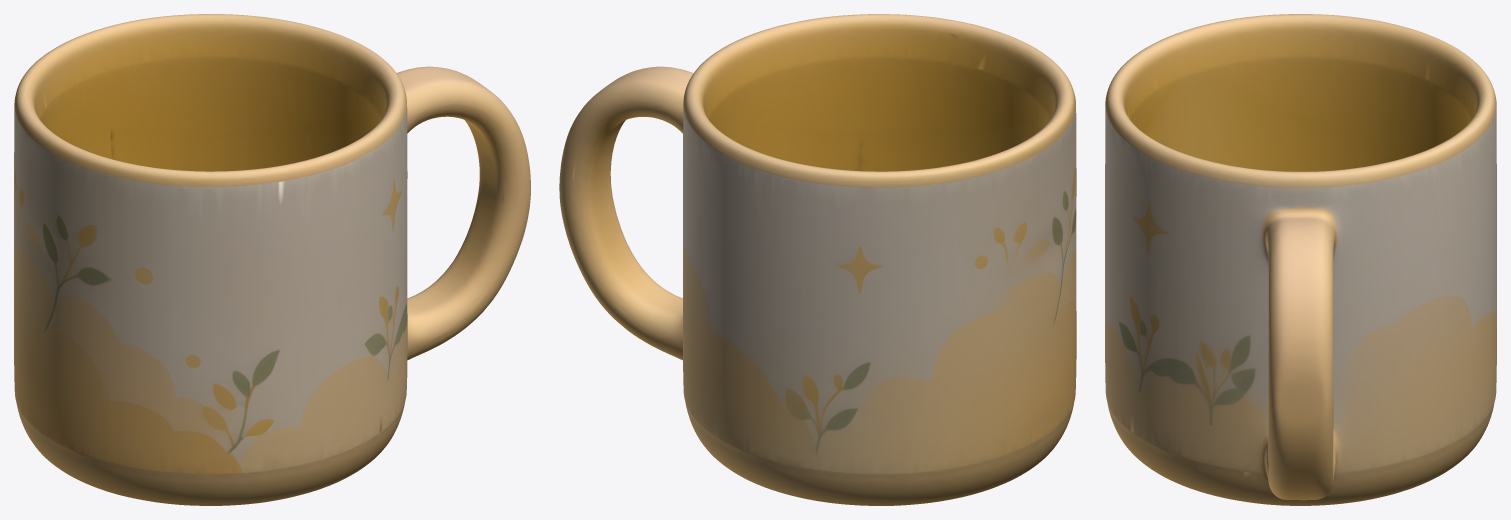
File: cup.glb
3 views of the same model, side by side, from view 1: azimuth 30°, elevation 25°; view 2: azimuth 150°, elevation 25°; view 3: azimuth 270°, elevation 25° (orthographic).
Visible parts, largest first — view 1: node_0; view 2: node_0; view 3: node_0.
Boxes of the visible parts, x1,y1,x2,y2 form: node_0: [14, 14, 530, 505]; node_0: [559, 14, 1076, 505]; node_0: [1105, 14, 1496, 505].
Bounding box in the file's own units: 1 × 0.6865 × 0.7127.
Materials: 1 (1 with a texture image).
